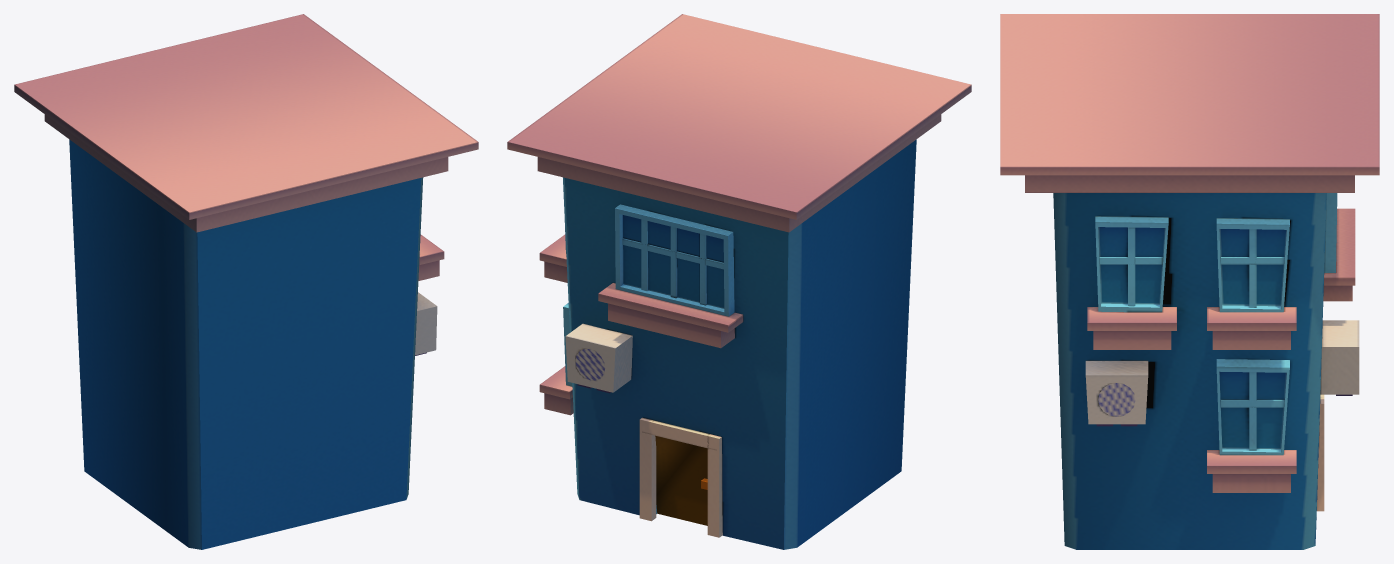
Rendered from building4.gltf.
3 renders of one model, left to right at view 1: azimuth 30°, elevation 25°; view 2: azimuth 150°, elevation 25°; view 3: azimuth 270°, elevation 25°, orthographic. The views are drawn at different scales.
Visible parts, largest first — view 1: Building4q2_1; view 2: Building4q2_1; view 3: Building4q2_1.
Part boxes in pixels (x1=…): Building4q2_1: x1=14, y1=14, x2=478, y2=549; Building4q2_1: x1=507, y1=14, x2=971, y2=549; Building4q2_1: x1=1000, y1=14, x2=1379, y2=549.
Bounding box in the file's own units: 4.58 × 5.47 × 4.69.
1 material, 1 textured.
